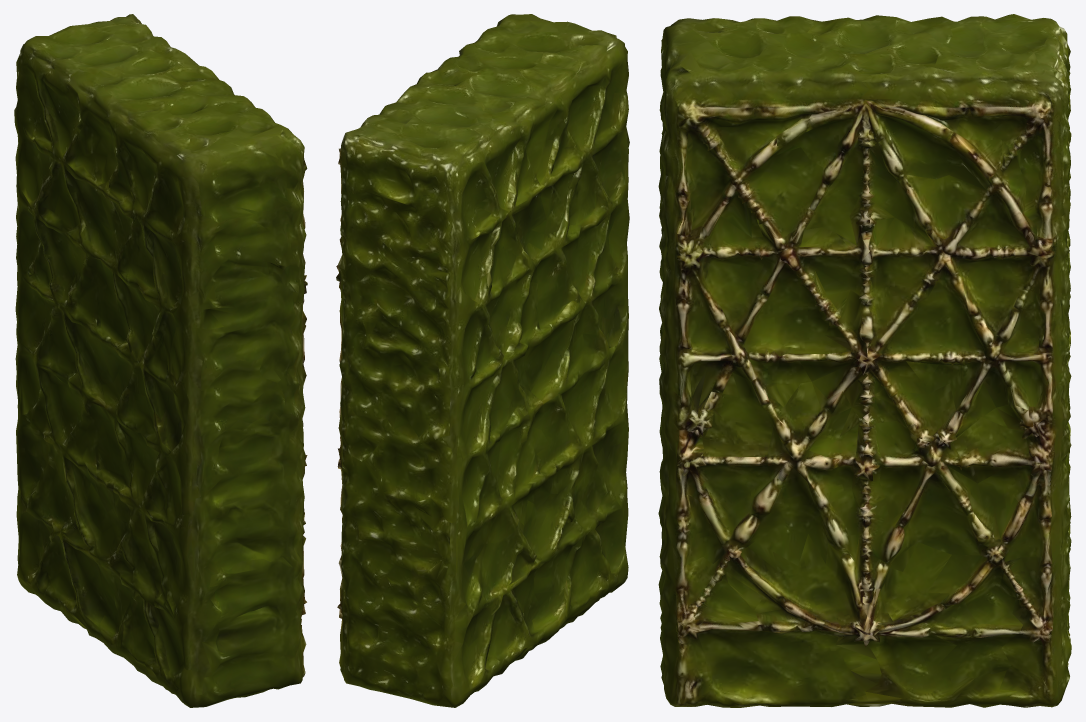
The model's file is jelly.glb.
3 renders of one model, left to right at view 1: azimuth 30°, elevation 25°; view 2: azimuth 150°, elevation 25°; view 3: azimuth 270°, elevation 25°, orthographic. The views are drawn at different scales.
Visible parts, largest first — view 1: tripo_node_1a03b74a-96e8-4756-9ae7-0119e32ca418; view 2: tripo_node_1a03b74a-96e8-4756-9ae7-0119e32ca418; view 3: tripo_node_1a03b74a-96e8-4756-9ae7-0119e32ca418.
Part boxes in pixels (left/top/right/bottom): tripo_node_1a03b74a-96e8-4756-9ae7-0119e32ca418: left=14, top=14, right=307, bottom=707; tripo_node_1a03b74a-96e8-4756-9ae7-0119e32ca418: left=336, top=14, right=629, bottom=707; tripo_node_1a03b74a-96e8-4756-9ae7-0119e32ca418: left=658, top=14, right=1071, bottom=707.
Bounding box in the file's own units: 0.2457 × 0.9806 × 0.5778.
1 material, 1 textured.
